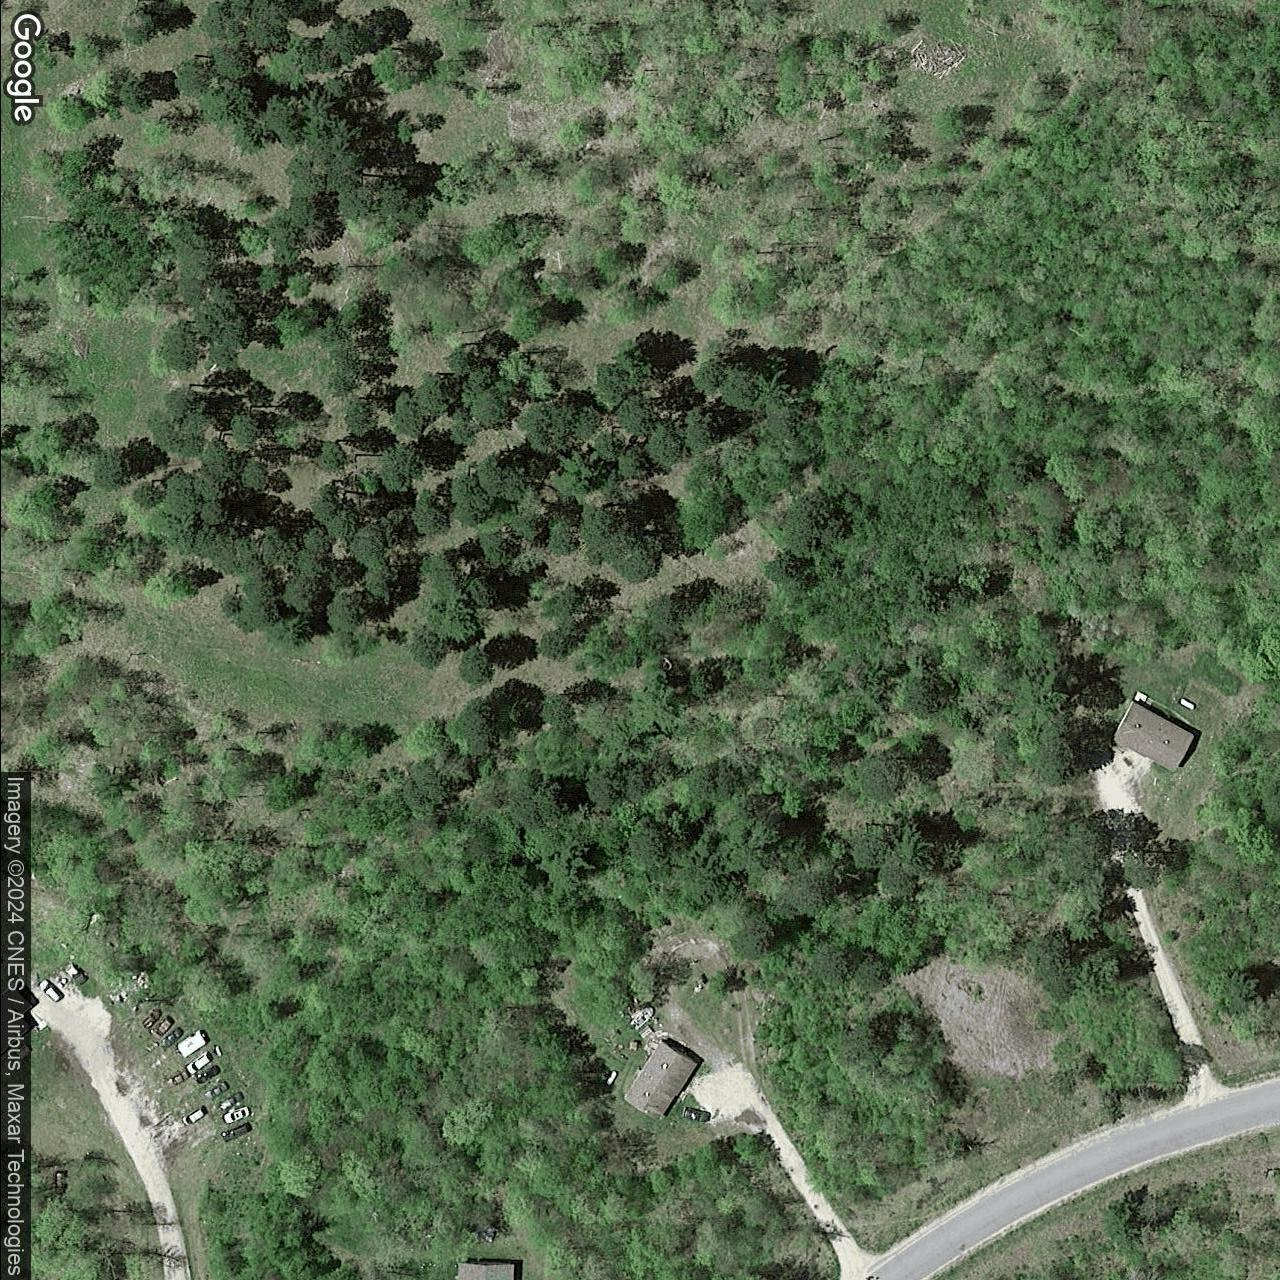House: (619, 1037, 701, 1123), (1110, 700, 1196, 774), (456, 1262, 515, 1280)
Propane: (1176, 695, 1198, 714), (602, 1068, 619, 1089), (210, 1042, 223, 1060)
Trailer: (176, 1029, 210, 1060)
